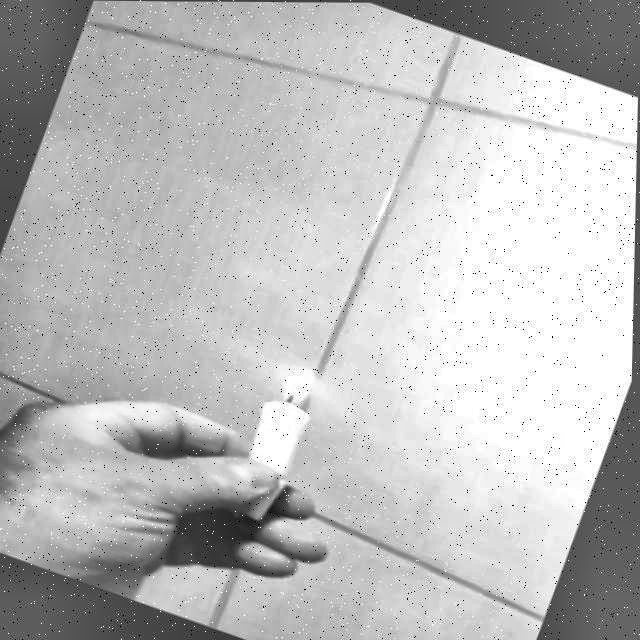Fire: (278, 360, 323, 405)
